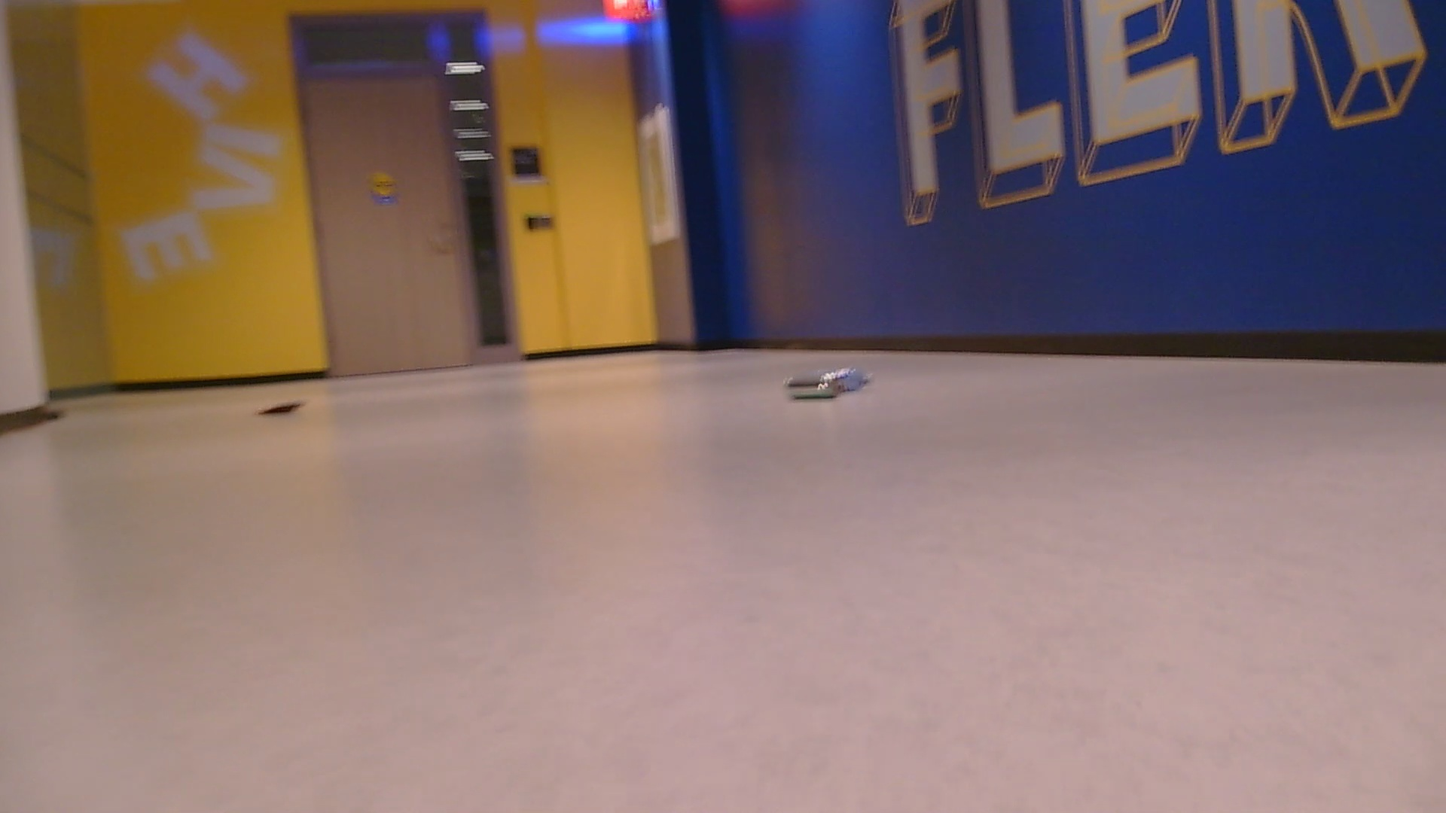can: (785, 367, 874, 401), (255, 398, 312, 416)
